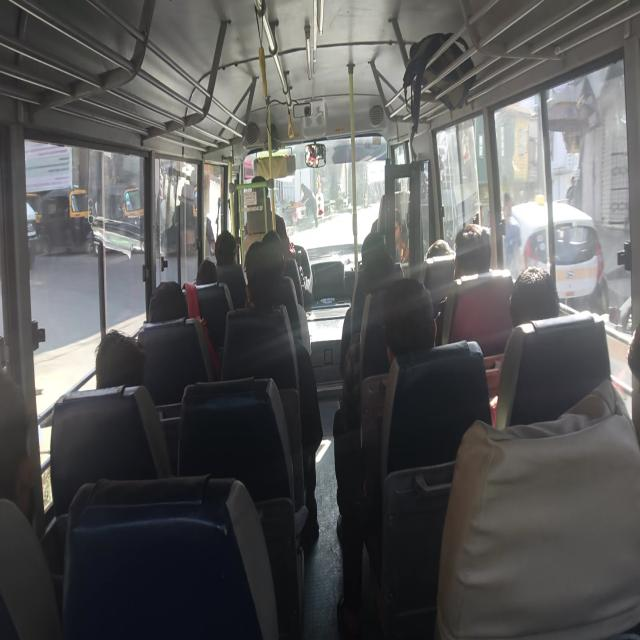person: (498, 264, 582, 360), (382, 271, 452, 384), (457, 223, 502, 301), (0, 364, 29, 470), (95, 330, 143, 394), (238, 243, 283, 306), (352, 232, 394, 276), (190, 245, 226, 294), (425, 234, 467, 276), (156, 282, 190, 333), (362, 260, 404, 292), (214, 228, 247, 264), (257, 224, 281, 272)
